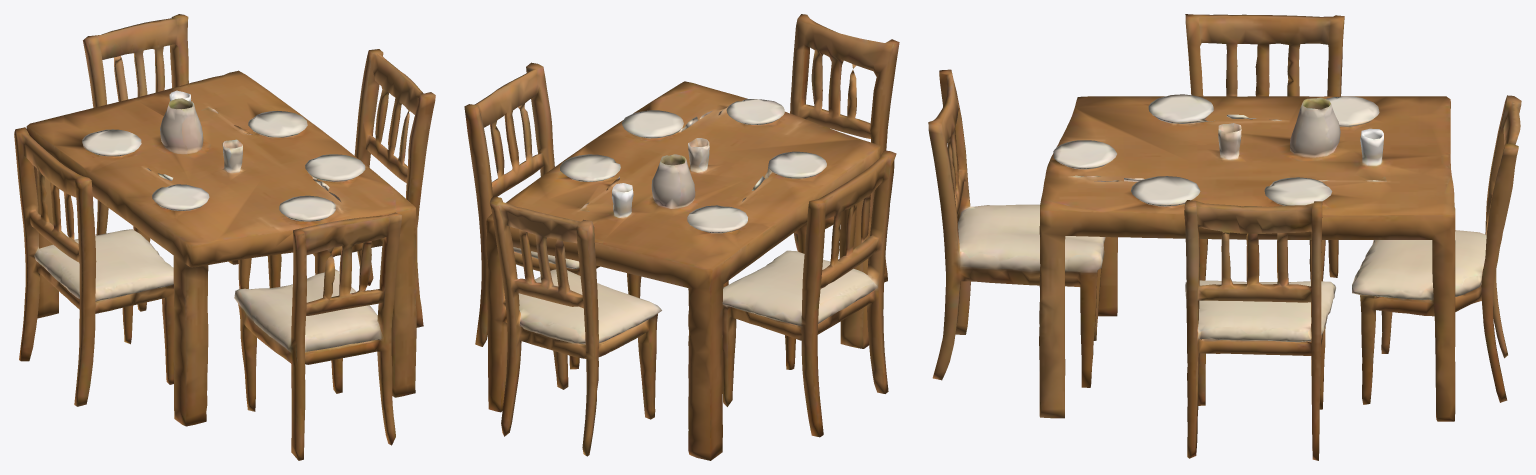
The model's file is 06_dining_table_4_chairs.glb.
3 views of the same model, side by side, from view 1: azimuth 30°, elevation 25°; view 2: azimuth 150°, elevation 25°; view 3: azimuth 270°, elevation 25° (orthographic). The views are drawn at different scales.
Parts seen in each view (by area): view 1: geometry_0; view 2: geometry_0; view 3: geometry_0.
Boxes of the visible parts, x1,y1,x2,y2 form: geometry_0: (14,14,435,460); geometry_0: (464,14,899,460); geometry_0: (928,14,1521,460).
Size of the model in its own units: 1.49 by 0.917 by 1.89.
1 material, 1 textured.
